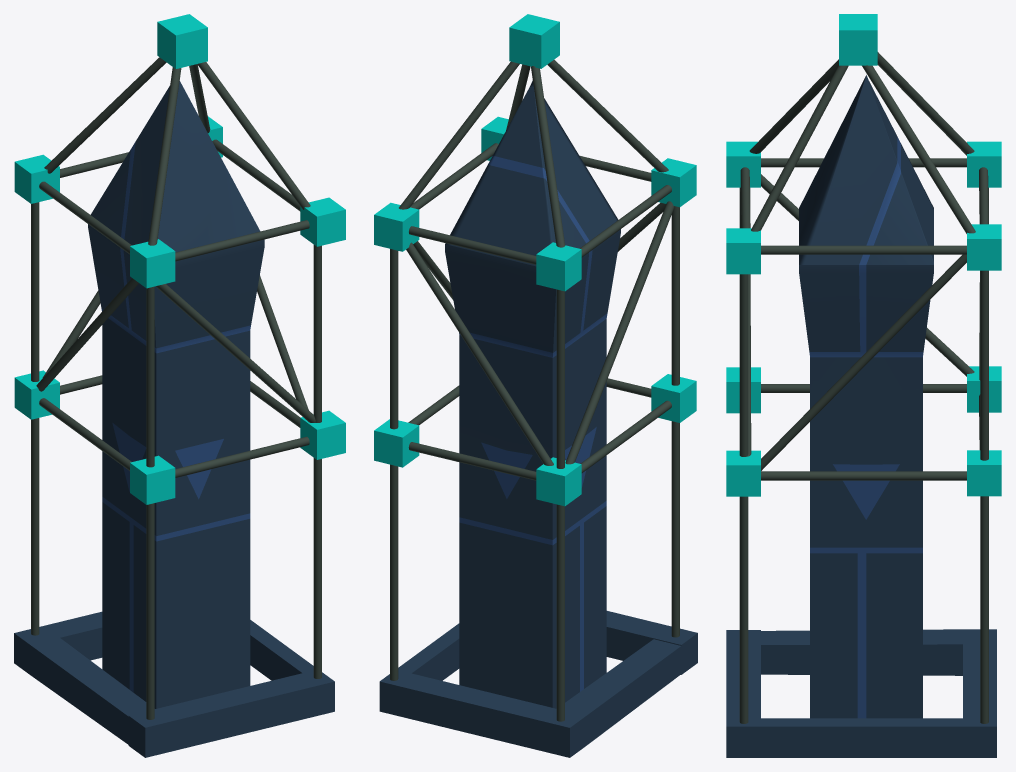
File: Torre_señal_grande.fbx
The picture shows the model from 3 angles, left to right: view 1: azimuth 30°, elevation 25°; view 2: azimuth 150°, elevation 25°; view 3: azimuth 270°, elevation 25°; orthographic projection. The views are drawn at different scales.
Visible parts, largest first — view 1: pCube28; view 2: pCube28; view 3: pCube28.
Part boxes in pixels (x1,y1,x2,y2): pCube28: [14, 14, 345, 757]; pCube28: [374, 14, 697, 757]; pCube28: [726, 14, 1001, 757].
Size of the model in its own units: 7 by 21.94 by 7.93.
